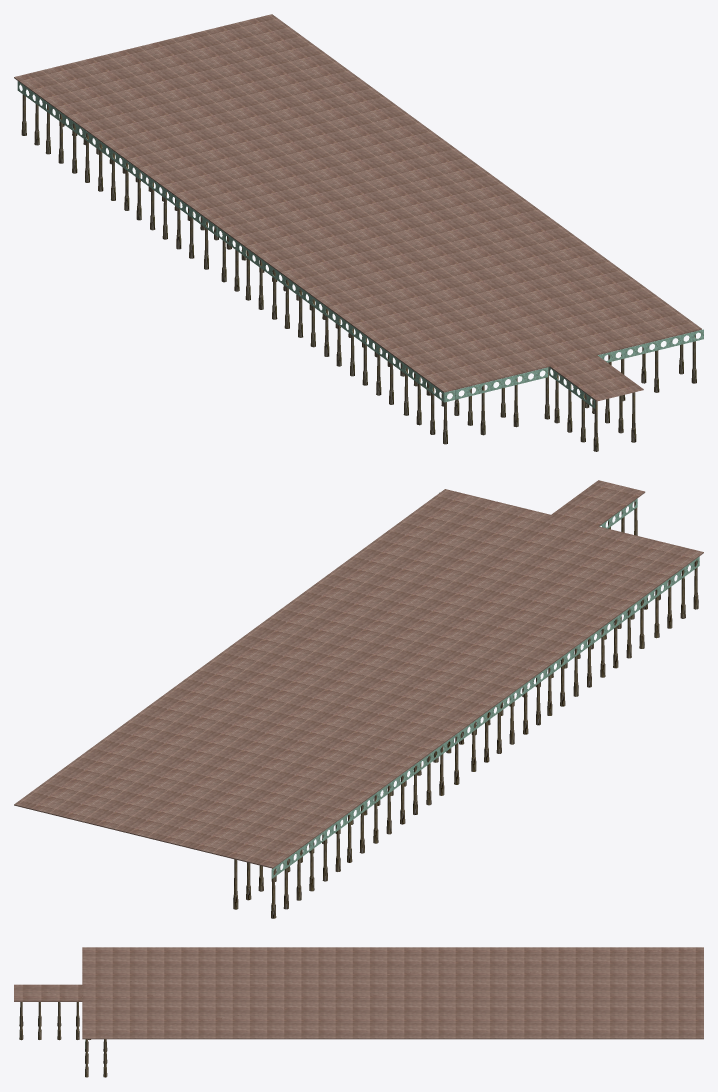
The model's file is Pier (1).FBX.
3 renders of one model, top to bottom at view 1: azimuth 30°, elevation 25°; view 2: azimuth 150°, elevation 25°; view 3: azimuth 270°, elevation 25°, orthographic. The views are drawn at different scales.
Parts seen in each view (by area): view 1: Box001; view 2: Box001; view 3: Box001.
Boxes of the visible parts, bbox=[...] form: Box001: bbox=[14, 14, 703, 451]; Box001: bbox=[14, 480, 703, 918]; Box001: bbox=[14, 947, 703, 1077].
Bounding box in the file's own units: 83.77 × 16.84 × 264.
3 materials, 3 textured.
